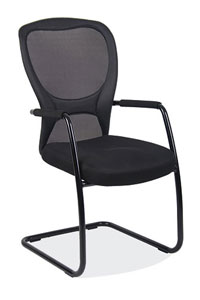chairs: (18, 16, 188, 279)
